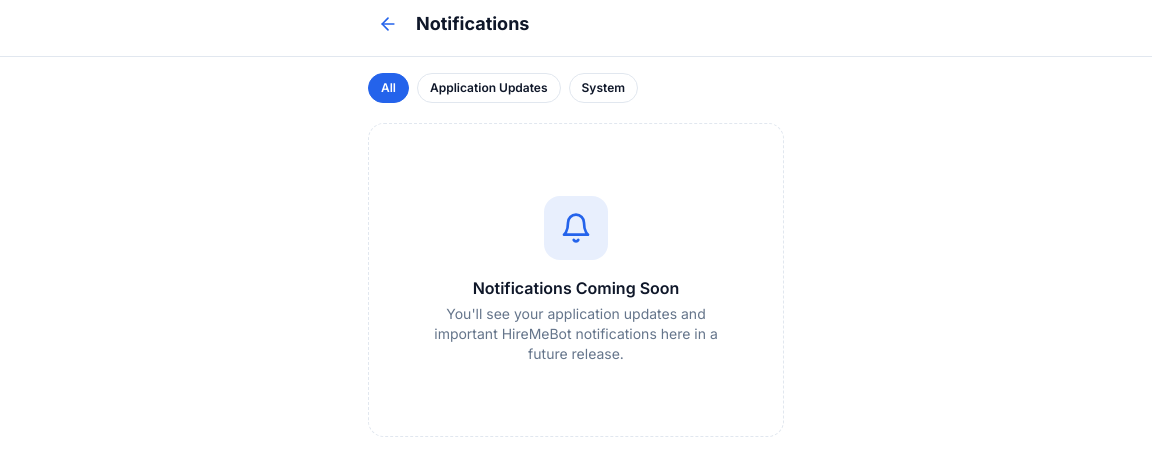
Scenario: StudentNotificationsPage › switches to Application Updates and shows that empty state
Click the tab "Application Updates" at x=489, y=88, box [417,73,560,103]
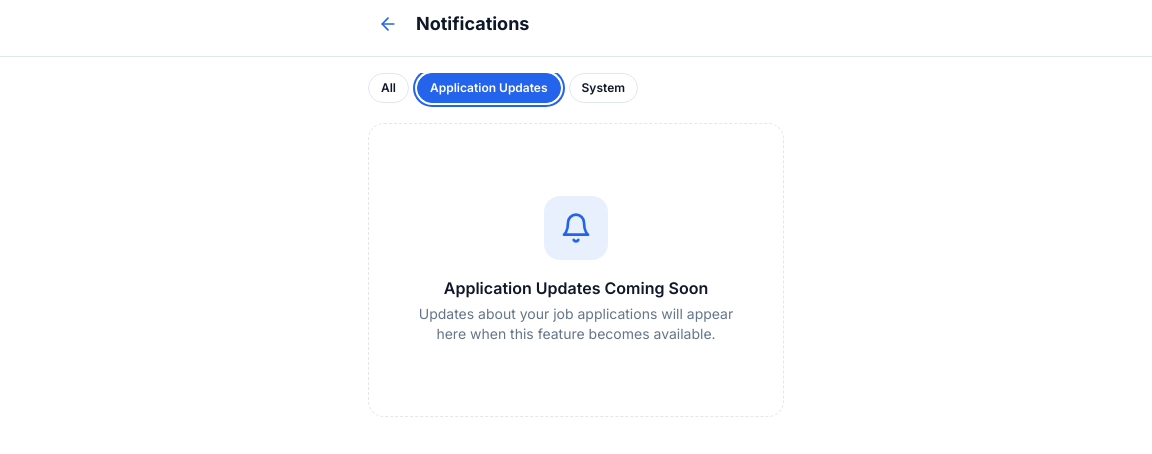
Now the heading "Application Updates Coming Soon" is shown, box [444,276,708,300]
